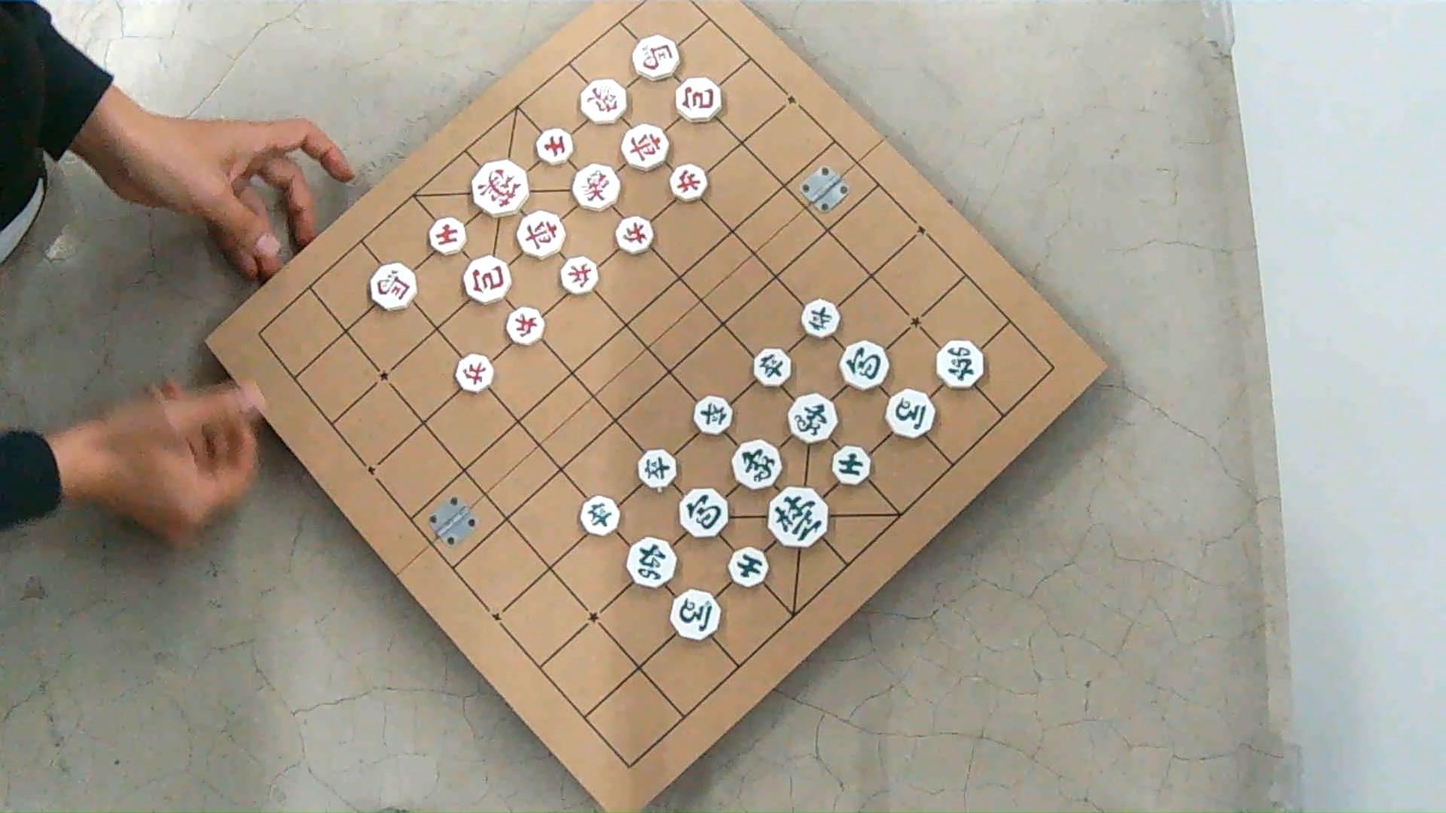cha_green: (627, 537, 677, 588), (936, 340, 984, 388)
cha_red: (517, 211, 564, 258), (621, 124, 669, 170)
jol_green: (580, 495, 619, 536), (801, 299, 840, 338), (638, 449, 676, 489), (693, 395, 731, 434), (754, 349, 792, 387)
jol_red: (506, 307, 545, 345), (615, 216, 654, 254), (456, 354, 493, 391), (560, 257, 597, 294), (670, 164, 707, 200)
ma_green: (670, 590, 719, 640), (886, 389, 935, 438)
ma_red: (371, 263, 416, 310), (633, 35, 679, 80)
po_green: (840, 340, 889, 390), (680, 488, 728, 537)
po_red: (463, 256, 510, 303), (676, 78, 721, 121)
sa_green: (832, 446, 871, 485), (729, 547, 767, 586)
sa_red: (429, 217, 465, 254), (537, 128, 573, 164)
sang_green: (733, 440, 782, 489), (789, 394, 837, 443)
sang_red: (573, 163, 620, 210), (580, 79, 627, 123)
wang_green: (768, 487, 828, 547)
wang_red: (472, 160, 528, 215)
